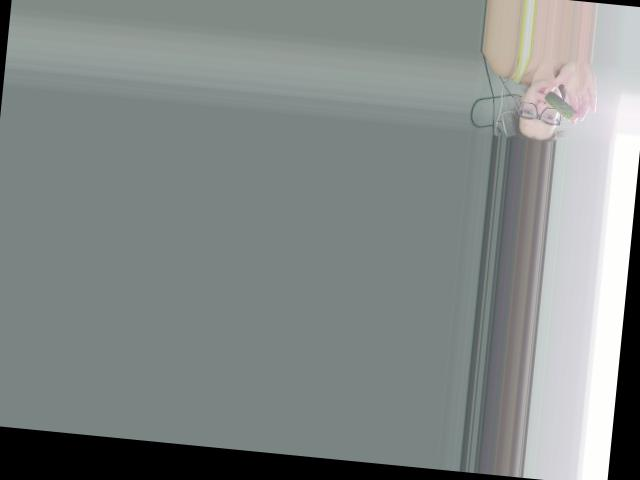cucumber: (542, 91, 576, 121)
